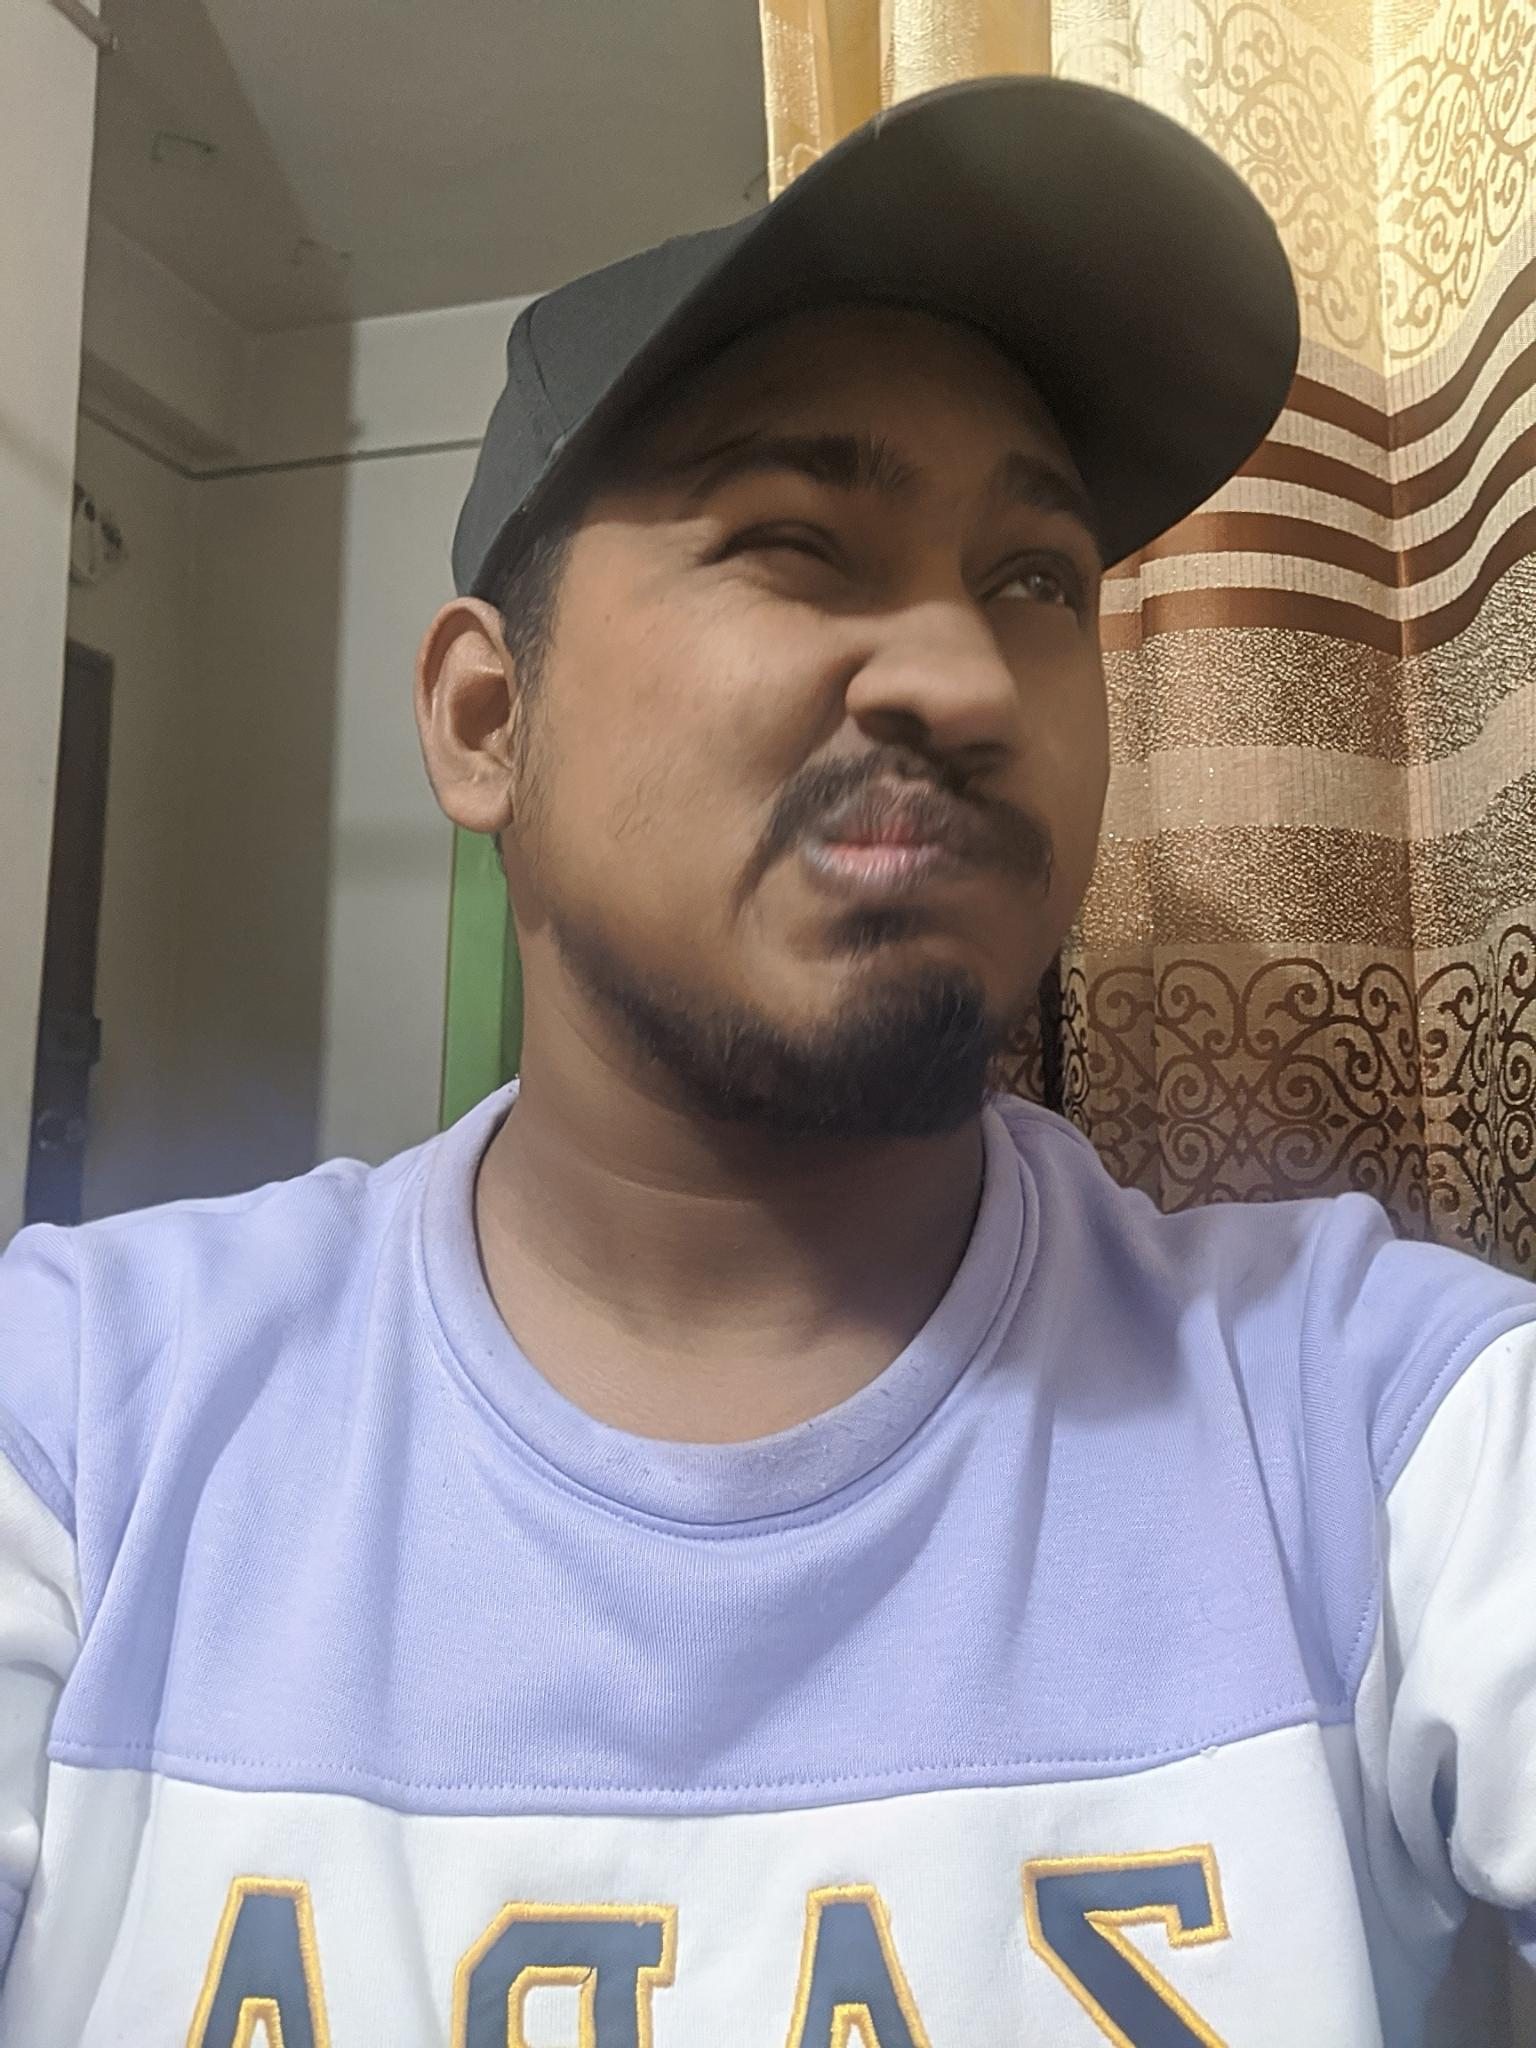Disgust: (628, 348, 1141, 1121)
